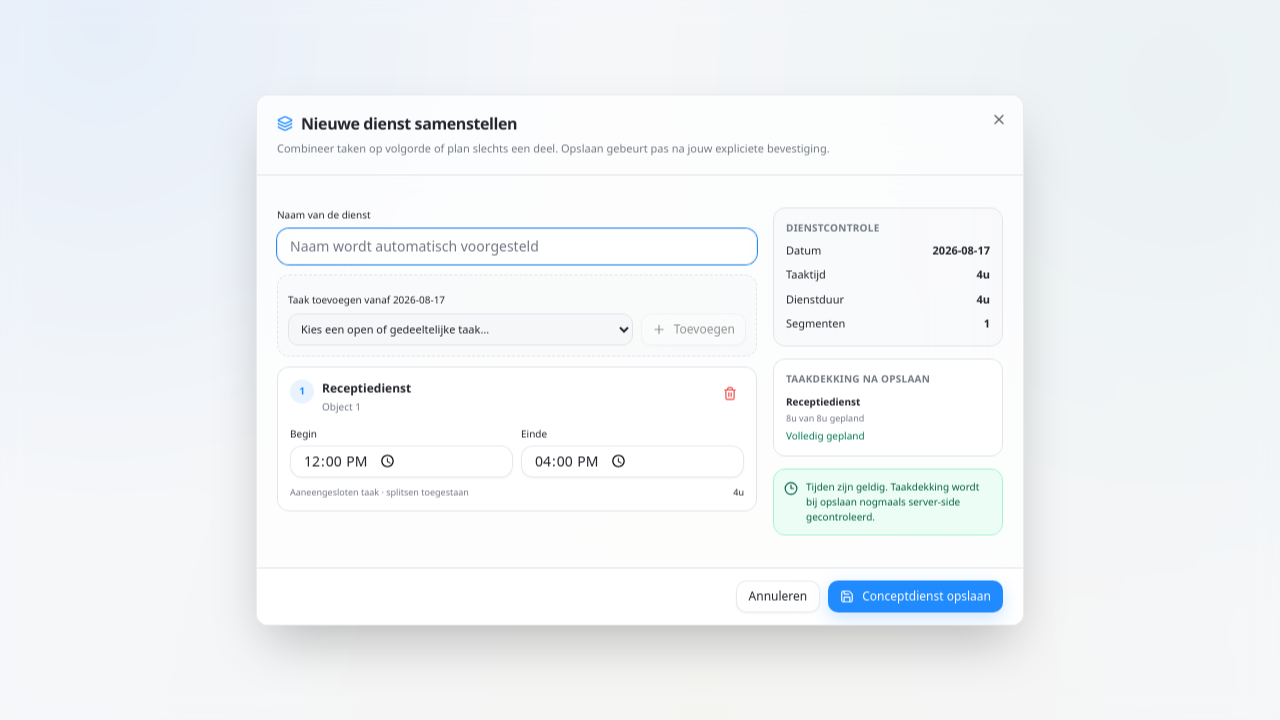
Test: Planning dienstcomposer › blokkeert lokaal overlap met een taakdeel in een andere dienst
Replace the text in the time field labelled "Begin" with "11:00" at (402, 461), box [290,445,513,477]
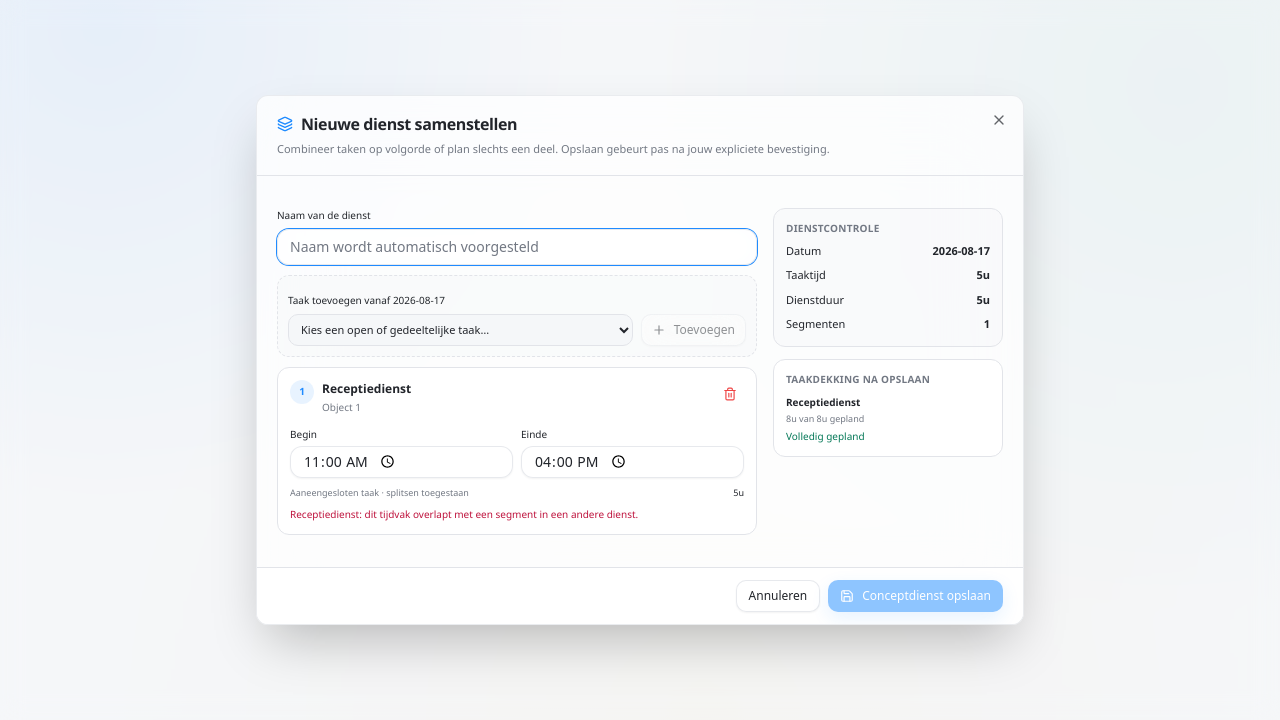
Expected: the text "Receptiedienst: dit tijdvak overlapt met een segment in een andere dienst." is shown, [290,507,638,521]
Expected: the button "Conceptdienst opslaan" is disabled, [828,580,1003,612]
